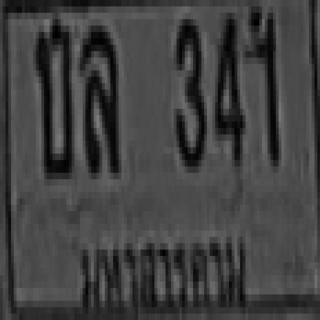A26: (33, 19, 72, 173)
A36: (79, 22, 117, 170)
N01: (251, 6, 276, 160)
N03: (174, 13, 204, 166)
N04: (212, 6, 243, 160)
P25: (71, 226, 252, 318)
